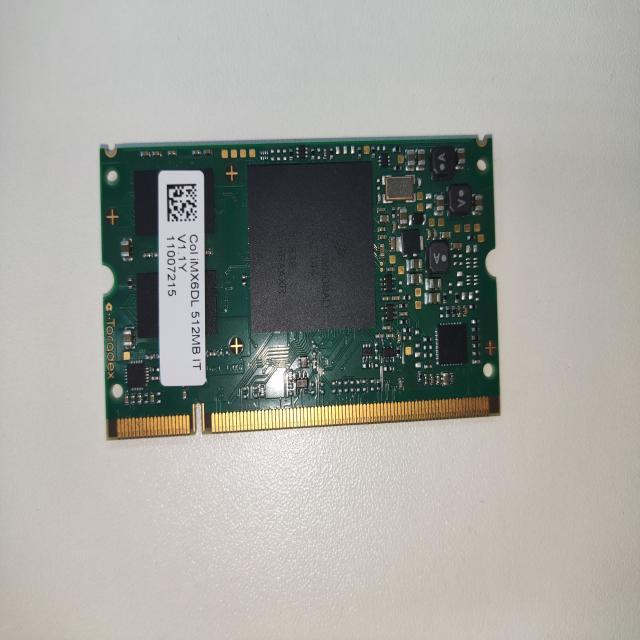som: (84, 123, 517, 442)
